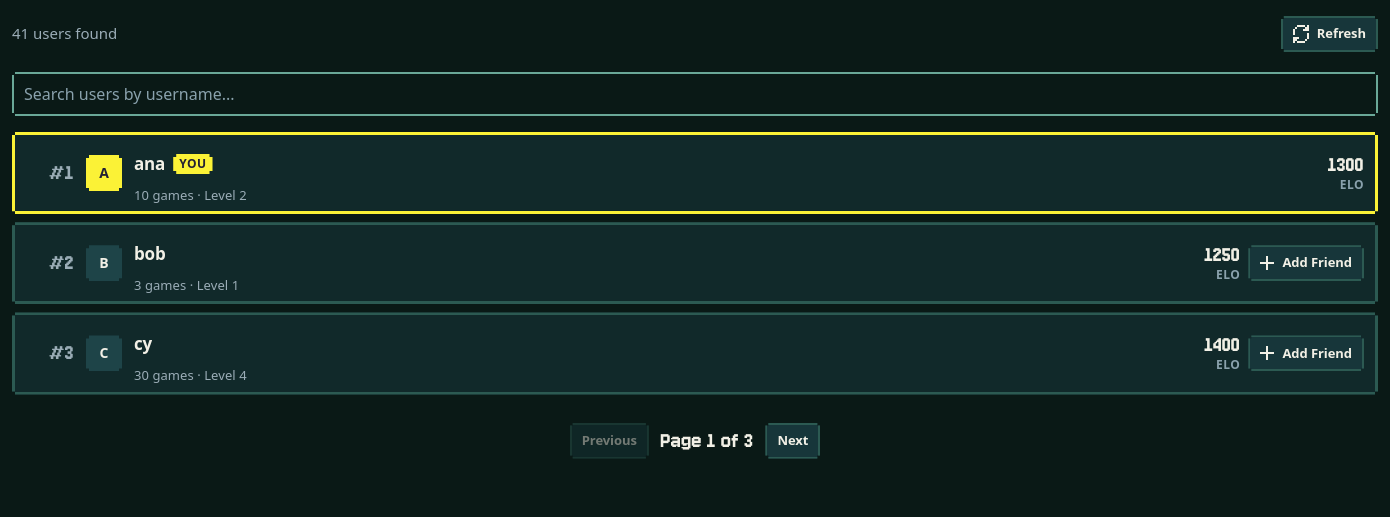
Test case: UserList (server-side paging and search) › a double-click on Next while that page loads asks for it once and waits
Click the button "Next" at [793, 441], box [765,419,820,463]
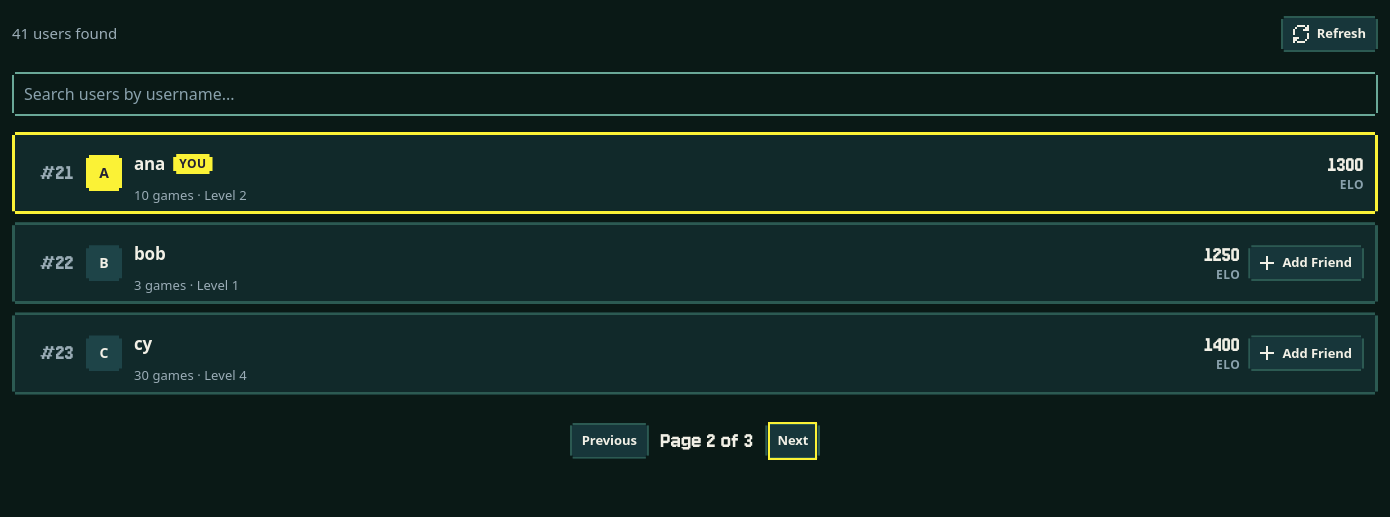
Now the text "Page 2 of 3" is shown, box [661,429,753,453]
Double-click the button "Next" at [793, 441], box [765,419,820,463]
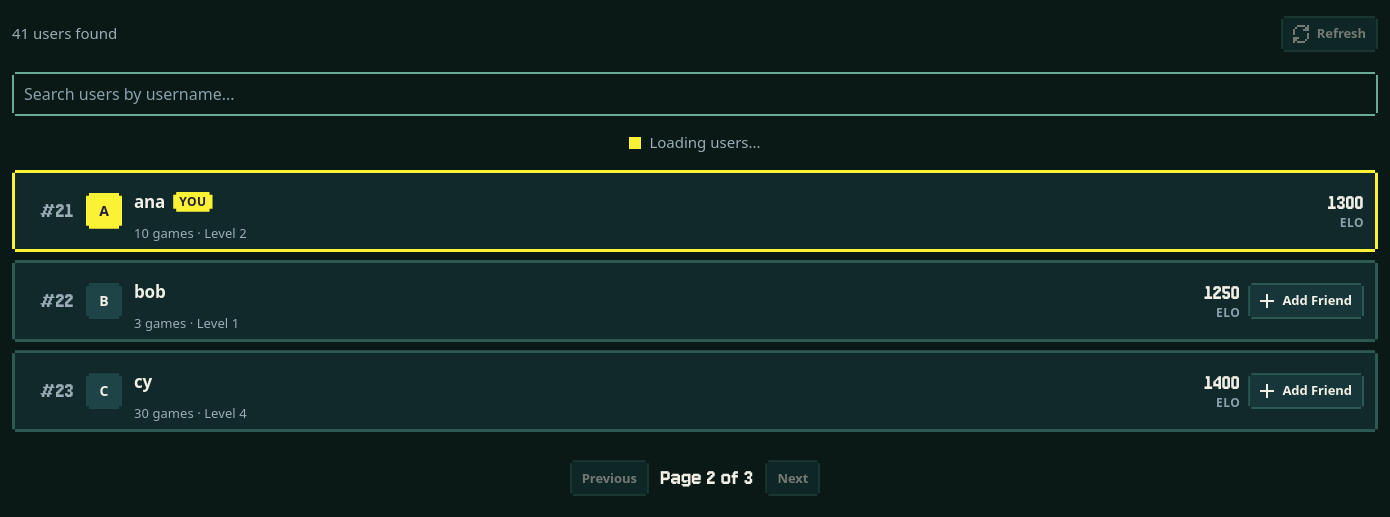
Now the button "Next" is disabled, box [765,456,820,500]
Now the button "Previous" is disabled, box [570,456,649,500]
